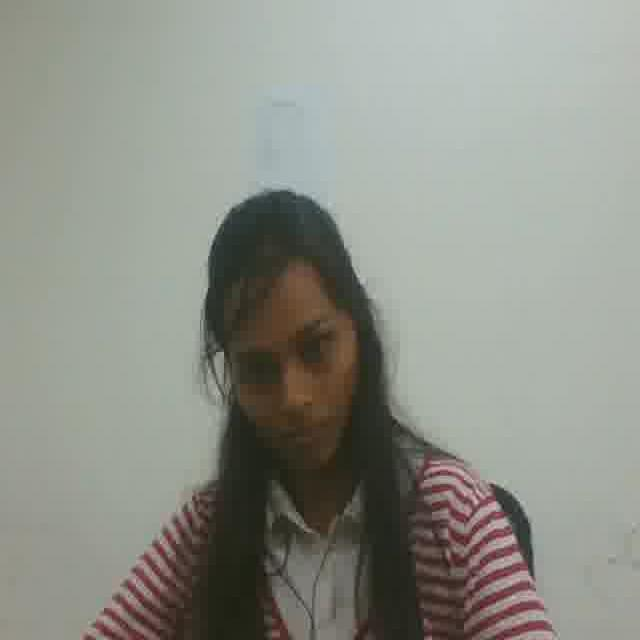Confusion: (227, 284, 349, 476)
